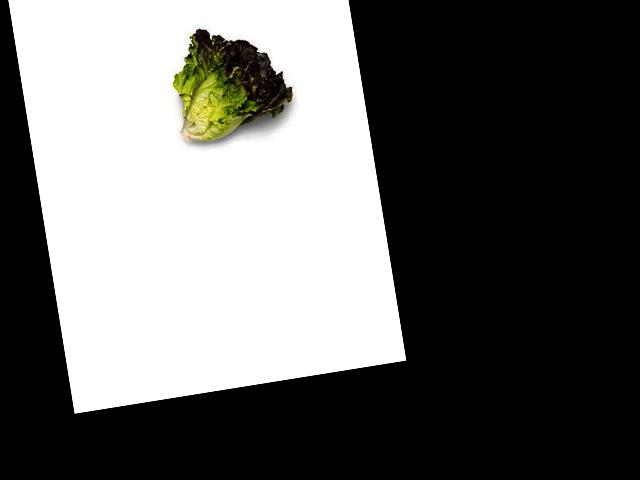lettuce: (155, 31, 299, 139)
